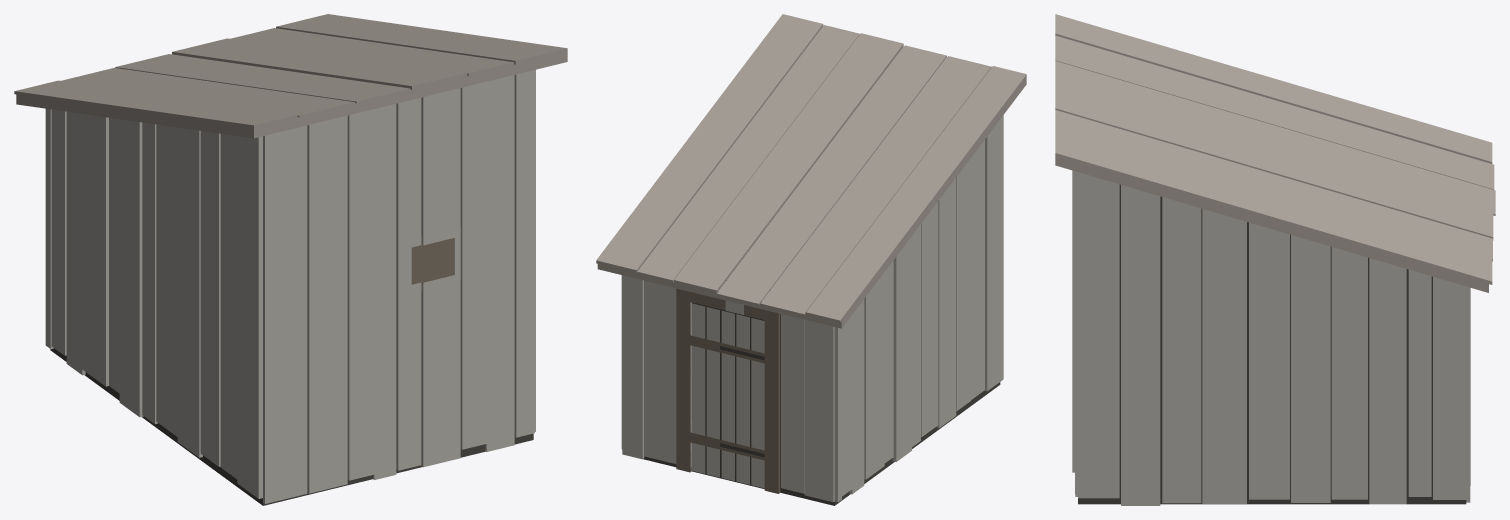
Rendered from recon_1835_blk_randolph_clinton_a4_11__inferred_1835.glb.
The picture shows the model from 3 angles, left to right: view 1: azimuth 30°, elevation 25°; view 2: azimuth 150°, elevation 25°; view 3: azimuth 270°, elevation 25°; orthographic projection. The views are drawn at different scales.
Parts seen in each view (by area): view 1: recon_1835_blk_randolph_clinton_a4_11__inferred_1835; view 2: recon_1835_blk_randolph_clinton_a4_11__inferred_1835; view 3: recon_1835_blk_randolph_clinton_a4_11__inferred_1835.
Boxes of the visible parts, box(x1,y1,x2,y2) form: recon_1835_blk_randolph_clinton_a4_11__inferred_1835: box(14, 14, 567, 505); recon_1835_blk_randolph_clinton_a4_11__inferred_1835: box(596, 14, 1026, 505); recon_1835_blk_randolph_clinton_a4_11__inferred_1835: box(1055, 14, 1495, 505).
Bounding box in the file's own units: 2.81 × 3.39 × 3.75.
